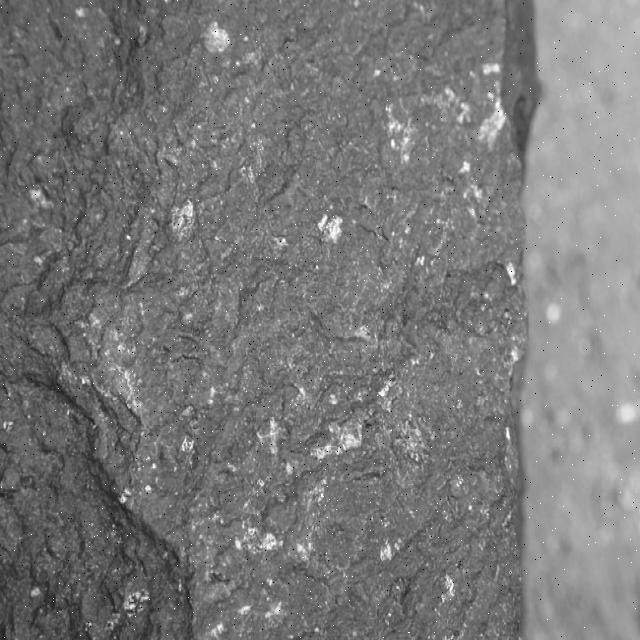Igneous: (1, 1, 524, 635)
